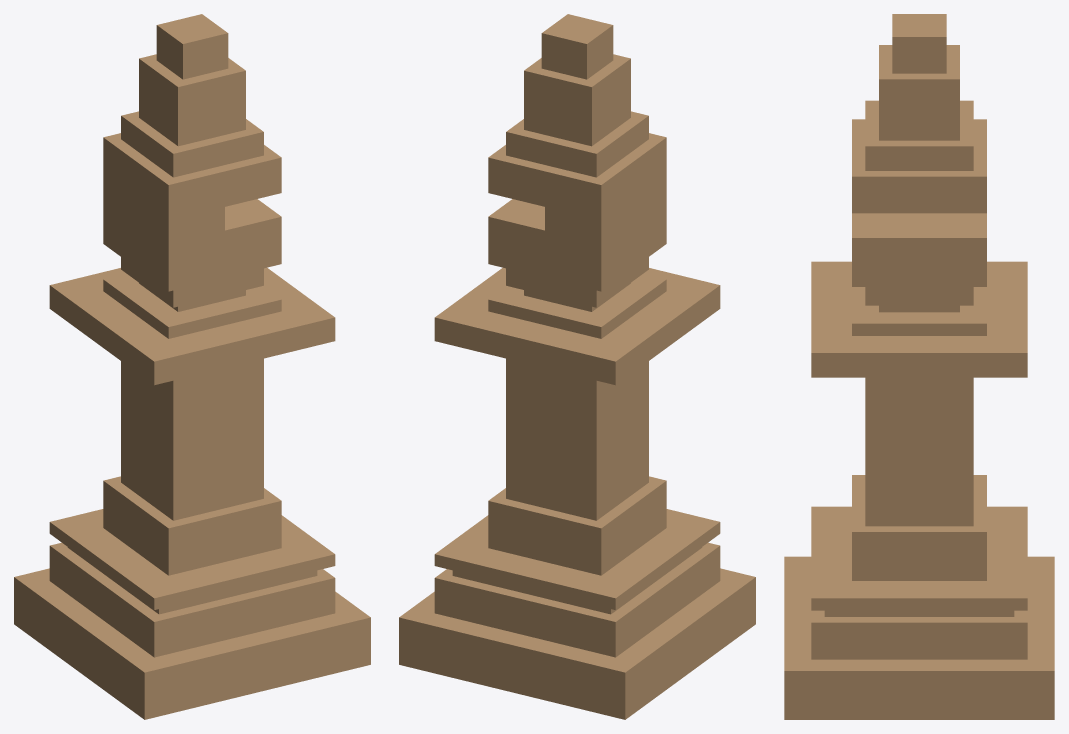
Rendered from white_bishop.dae.
The picture shows the model from 3 angles, left to right: view 1: azimuth 30°, elevation 25°; view 2: azimuth 150°, elevation 25°; view 3: azimuth 270°, elevation 25°; orthographic projection. The views are drawn at different scales.
Parts seen in each view (by area): view 1: Untitled; view 2: Untitled; view 3: Untitled.
Boxes of the visible parts, x1=… form: Untitled: x1=14, y1=14, x2=370, y2=719; Untitled: x1=399, y1=14, x2=755, y2=719; Untitled: x1=784, y1=14, x2=1054, y2=719.
Size of the model in its own units: 0.6 by 0.6 by 1.56.
